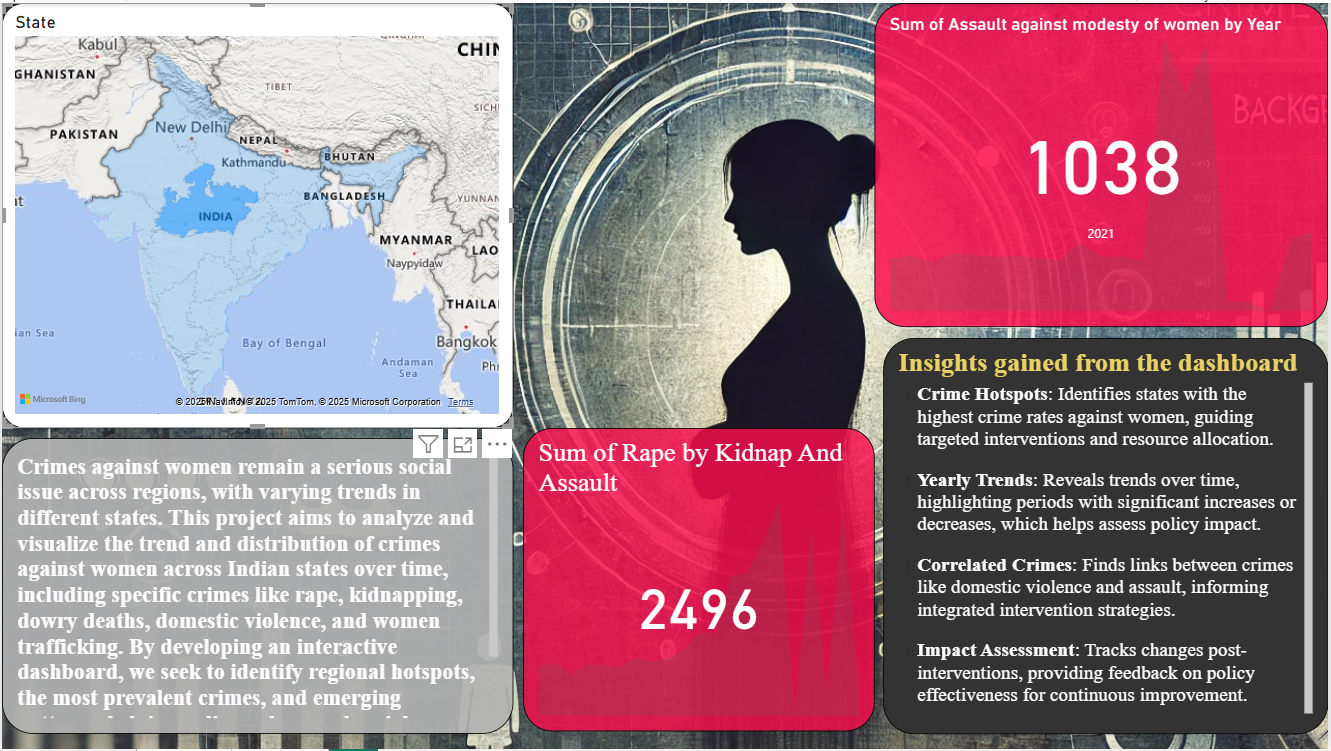

This screenshot's page, from the dashboard's own definition file:
{"tool":"powerbi","page":{"name":"Page 2","canvas":[1280,720],"ordinal":1},"visuals":[{"type":"filledMap","fields":{"Category":["CrimesOnWomenData (2).State"]},"box":[0,0,493.4,410.2],"z":0},{"type":"kpi","fields":{"TrendLine":["CrimesOnWomenData.Year"],"Indicator":["Sum(CrimesOnWomenData.Assault against modesty of women)"]},"box":[842.1,0,437.9,312.5],"z":1000},{"type":"textbox","box":[0,419.8,493.4,285.9],"z":2000},{"type":"textbox","title":"Insights gained from the dashboard","box":[850.5,323.3,429.5,382.4],"z":3000},{"type":"kpi","fields":{"Indicator":["Sum(CrimesOnWomenData.Rape)"],"TrendLine":["CrimesOnWomenData.Kidnap And Assault"]},"box":[503.1,410.2,339,293.2],"z":4000}]}

Visuals, with their boxes in screenshot pixels (x1, y1, x2, y2), scaled from the page's 1280x720 canvas onto the 1331x751 screenshot:
filledMap - CrimesOnWomenData (2).State: [left=0, top=0, right=513, bottom=428]
kpi - CrimesOnWomenData.Year x Sum(CrimesOnWomenData.Assault against modesty of women): [left=876, top=0, right=1330, bottom=326]
textbox: [left=0, top=438, right=513, bottom=736]
"Insights gained from the dashboard" textbox: [left=884, top=337, right=1330, bottom=736]
kpi - Sum(CrimesOnWomenData.Rape) x CrimesOnWomenData.Kidnap And Assault: [left=523, top=428, right=876, bottom=734]
